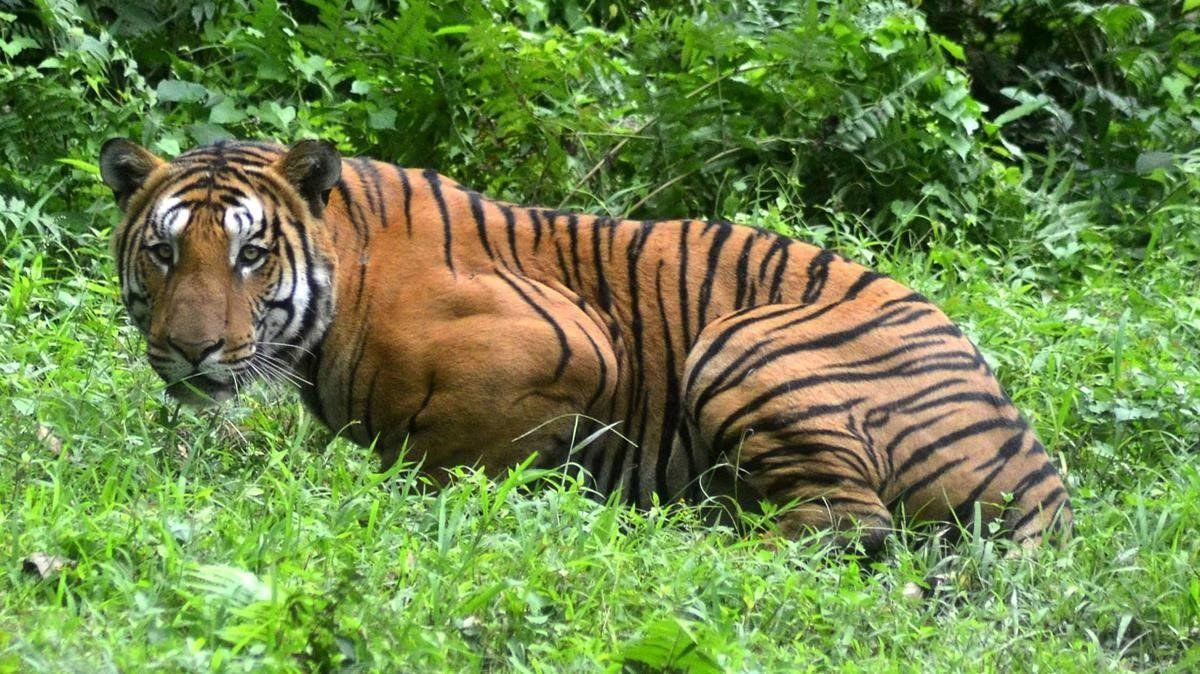Tigrew: (68, 109, 1134, 607)
